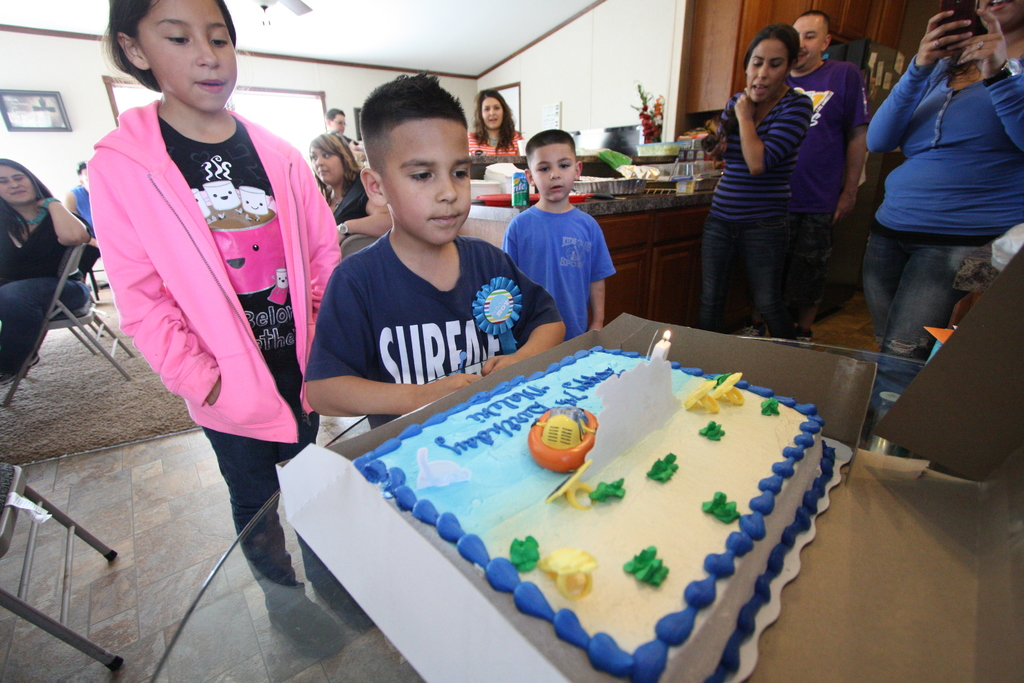cake: (349, 346, 840, 682)
